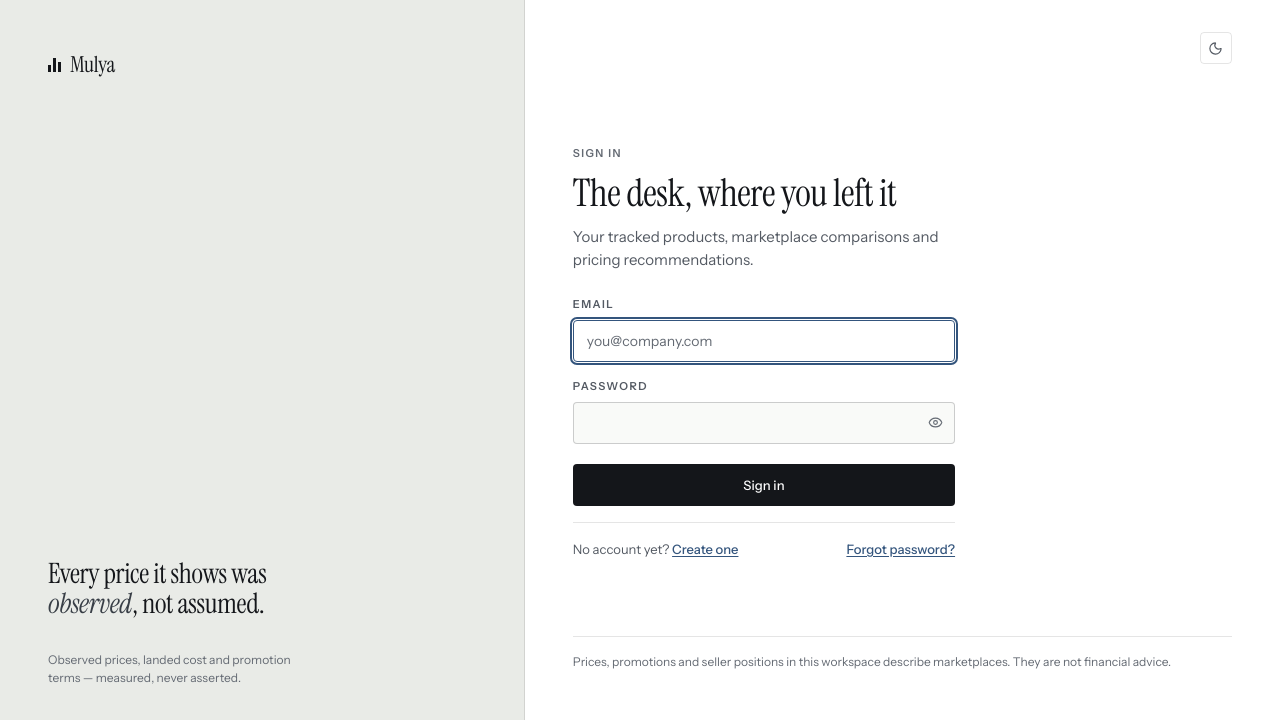
Test: UI-AUTH — the door › UI-AUTH-04: an unverified account is offered a new code and taken to verification
Type "operator@example.com" into the field labelled "Email" at (764, 341), box [573, 320, 955, 362]
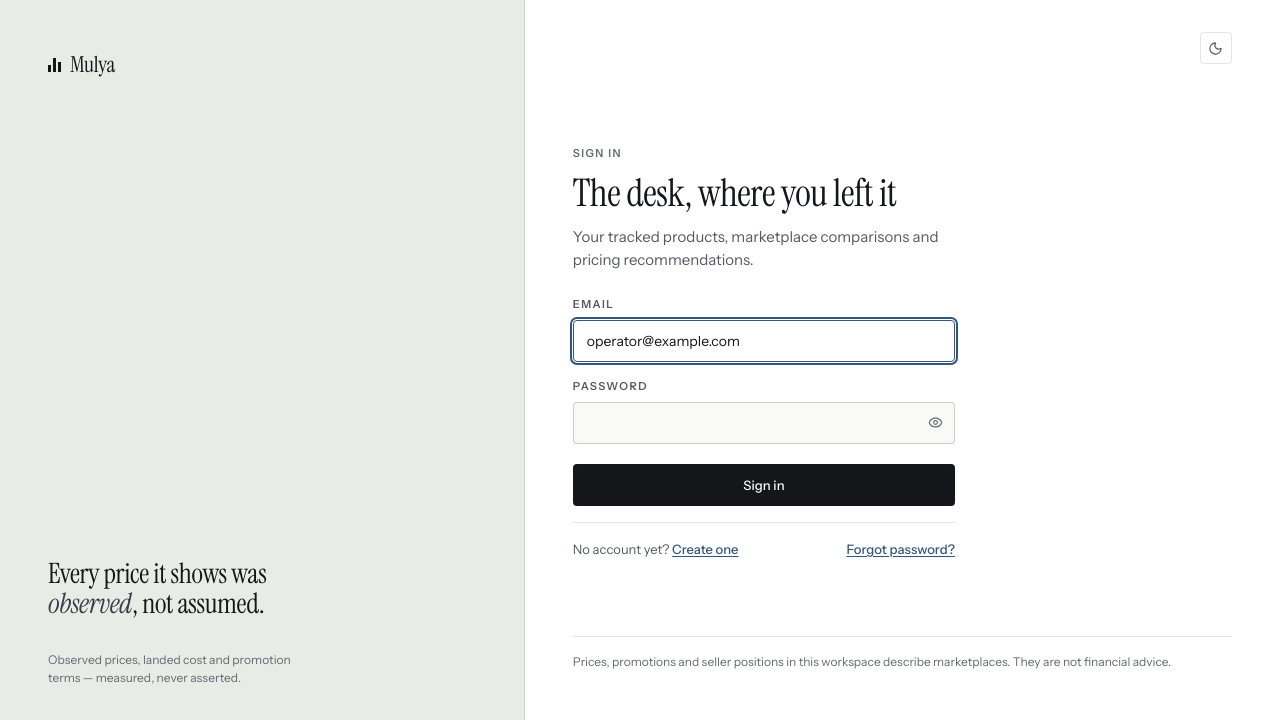
Type "correct-horse-battery" into the password field labelled "Password" at (764, 423), box [573, 402, 955, 444]
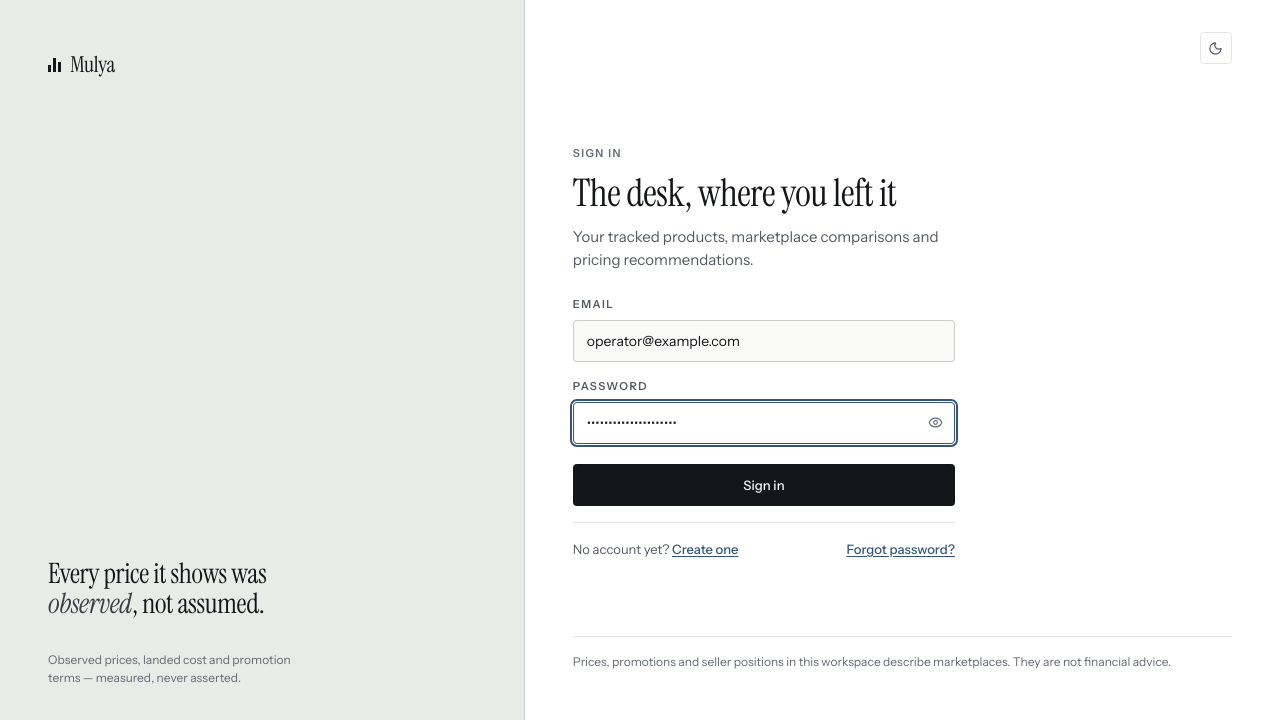
Click the button "Sign in" at (764, 485), box [573, 464, 955, 506]
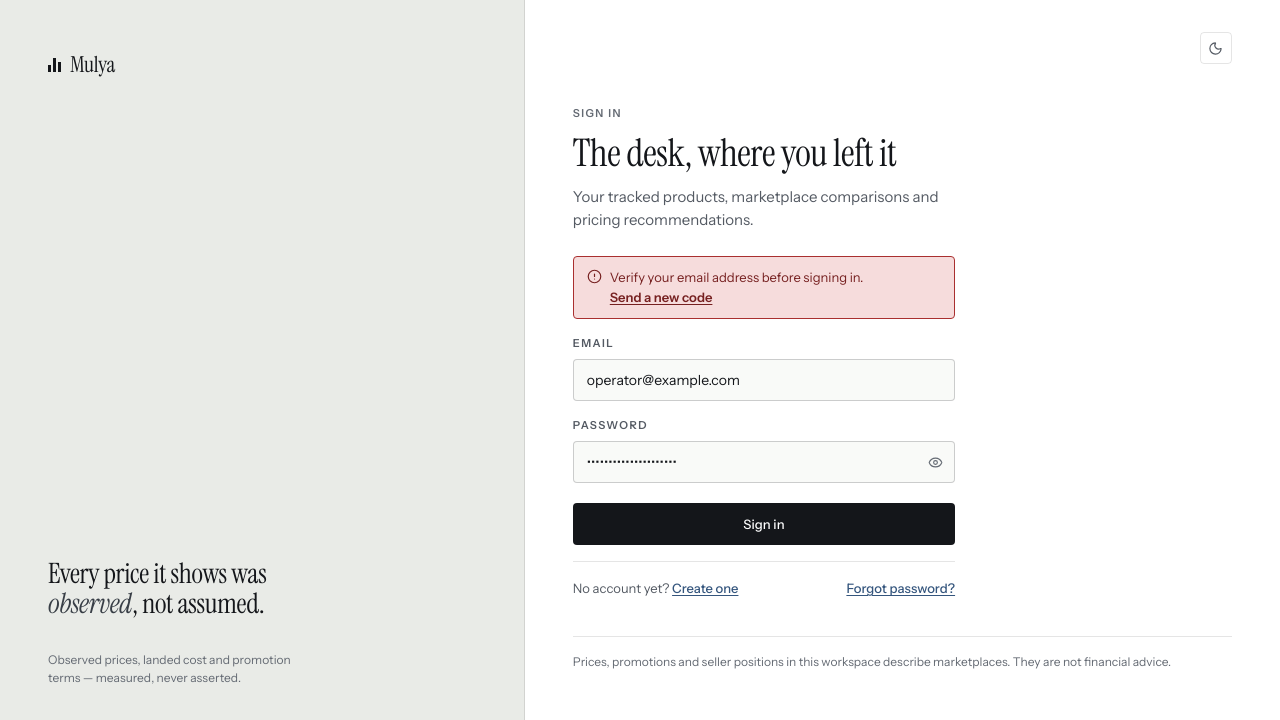
Now the message shows "Verify your email address", box [610, 269, 863, 285]
Click the button "Send a new code" at (661, 297), box [610, 289, 712, 305]
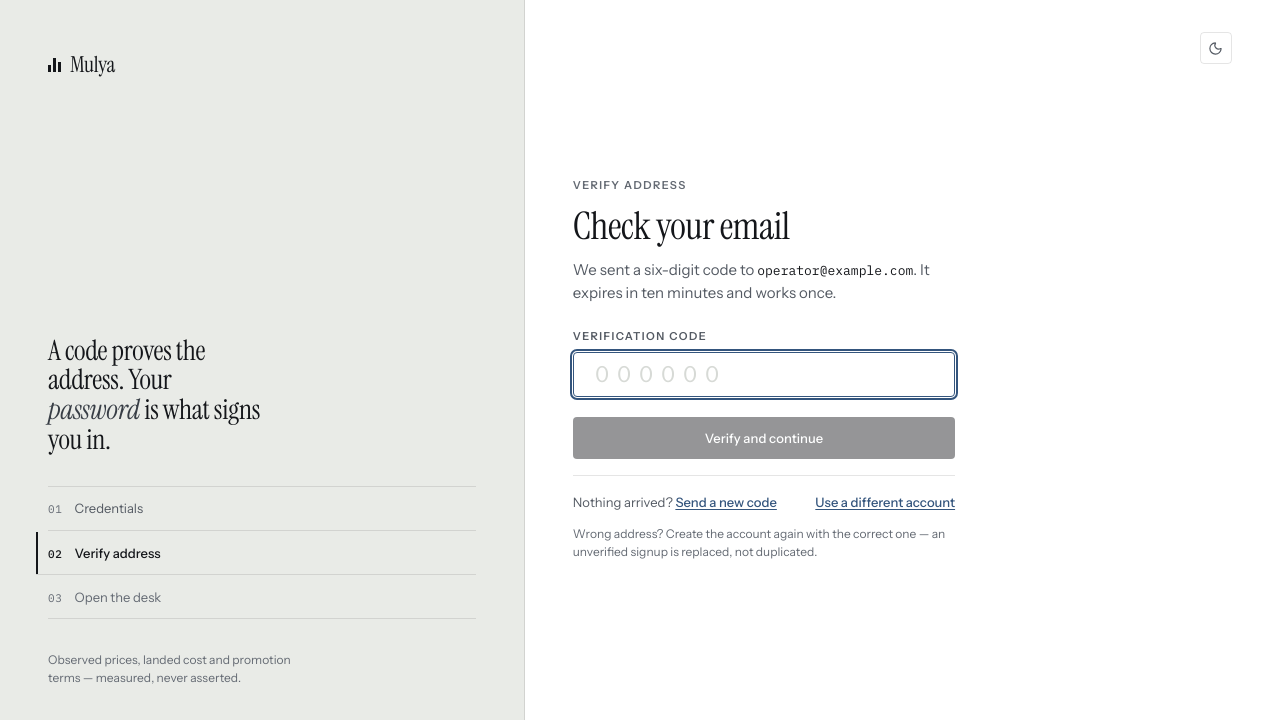
Now the heading "Check your email" is shown, box [573, 201, 790, 251]
